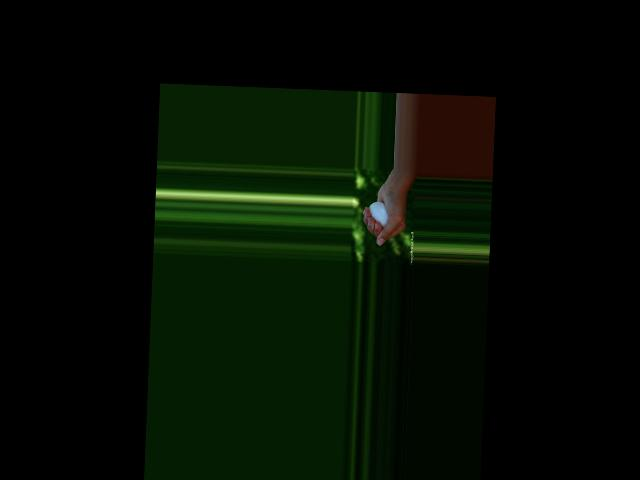egg: (368, 201, 388, 228)
